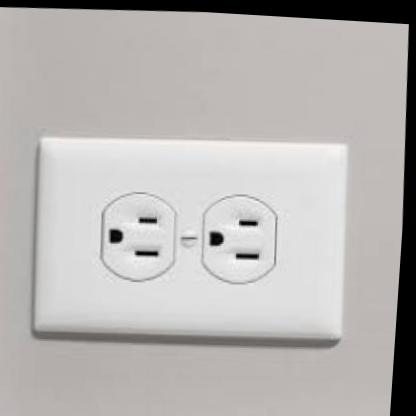OUTLET: (25, 127, 356, 352)
